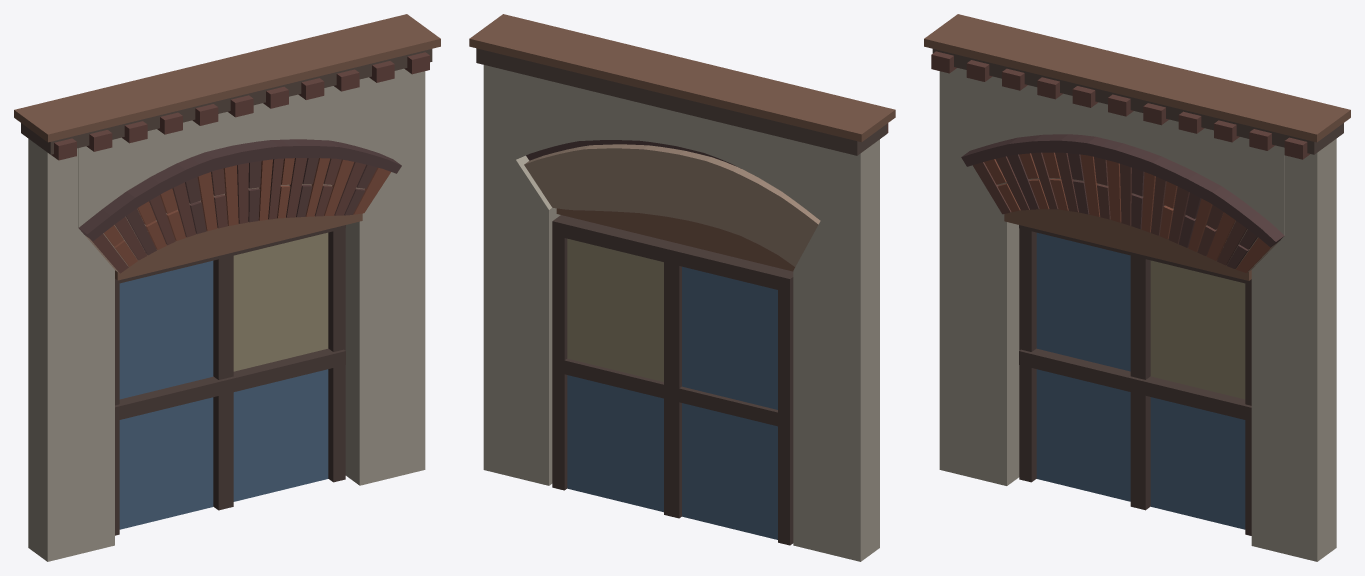
The model's file is huangpu-songyun-villas-fan-brick-window-head-lod.glb.
The picture shows the model from 3 angles, left to right: view 1: azimuth 30°, elevation 25°; view 2: azimuth 150°, elevation 25°; view 3: azimuth 330°, elevation 25°; orthographic projection.
Parts seen in each view (by area): view 1: 松韵别墅总弄转角扇砖窗楣与木窗上扇; view 2: 松韵别墅总弄转角扇砖窗楣与木窗上扇; view 3: 松韵别墅总弄转角扇砖窗楣与木窗上扇.
Part boxes in pixels (left/top/right/bottom): 松韵别墅总弄转角扇砖窗楣与木窗上扇: left=14, top=14, right=440, bottom=561; 松韵别墅总弄转角扇砖窗楣与木窗上扇: left=469, top=14, right=895, bottom=561; 松韵别墅总弄转角扇砖窗楣与木窗上扇: left=924, top=14, right=1350, bottom=561.
Size of the model in its own units: 2.08 by 2.2 by 0.326.
